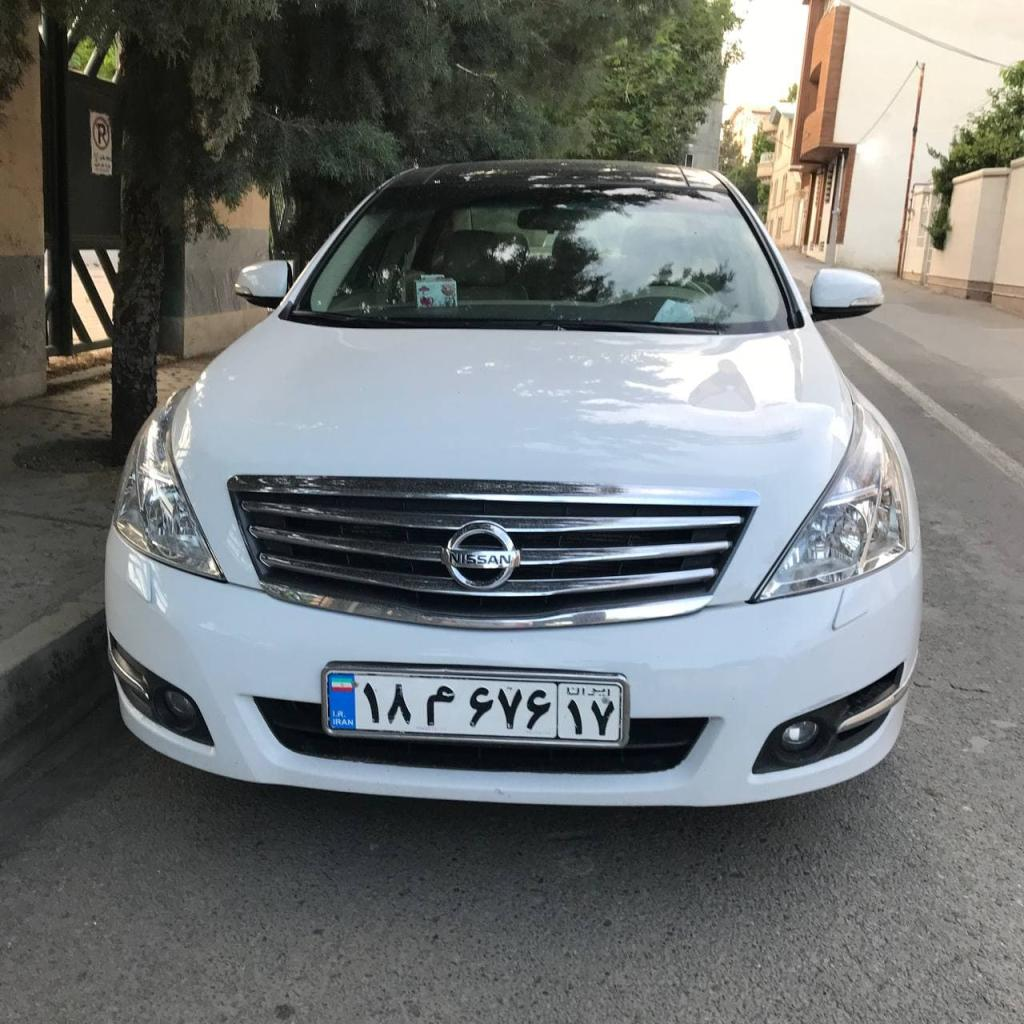Plates: (327, 671, 622, 741)
